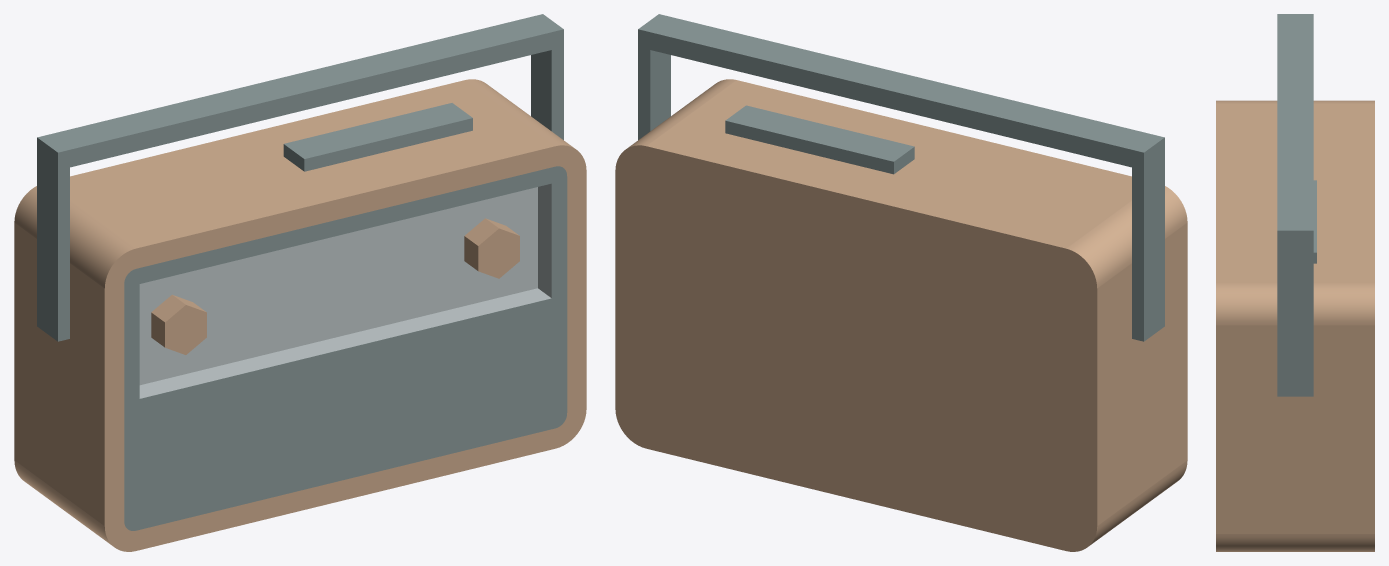
The model's file is radio.glb.
The picture shows the model from 3 angles, left to right: view 1: azimuth 30°, elevation 25°; view 2: azimuth 150°, elevation 25°; view 3: azimuth 270°, elevation 25°; orthographic projection. The views are drawn at different scales.
Visible parts, largest first — view 1: radio; view 2: radio; view 3: radio.
Boxes of the visible parts, x1,y1,x2,y2 form: radio: [14, 14, 586, 551]; radio: [615, 14, 1187, 551]; radio: [1216, 14, 1374, 551].
Bounding box in the file's own units: 0.315 × 0.2282 × 0.0975.
